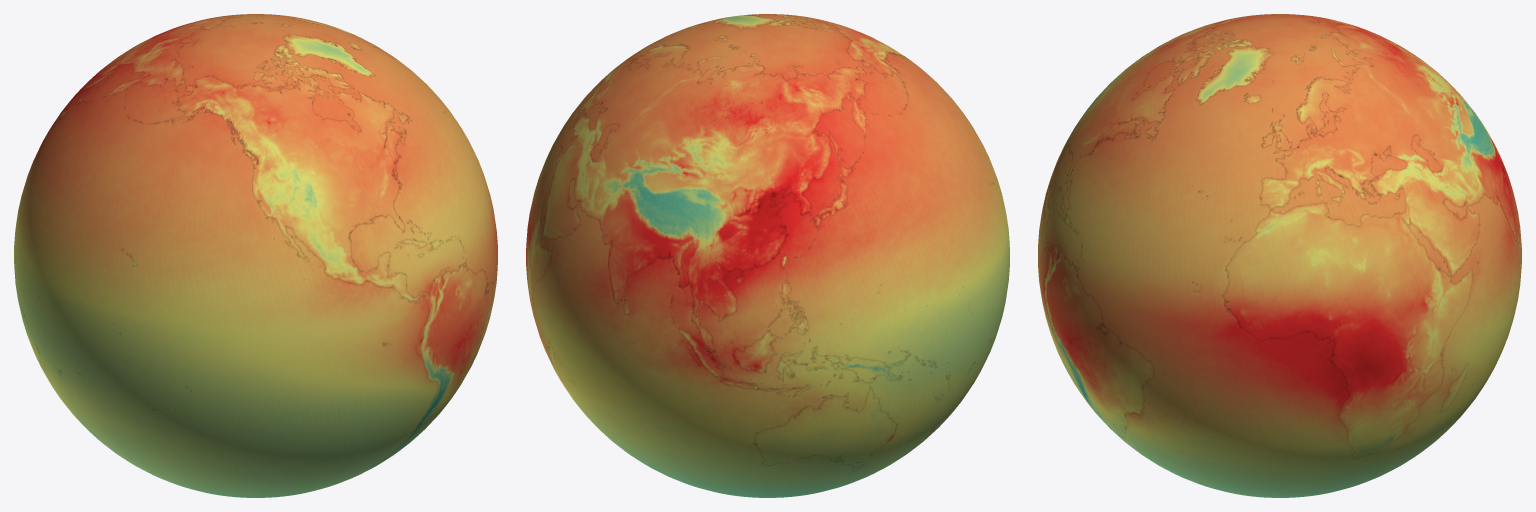
3 renders of one model, left to right at view 1: azimuth 30°, elevation 25°; view 2: azimuth 150°, elevation 25°; view 3: azimuth 270°, elevation 25°, orthographic.
Visible parts, largest first — view 1: Sphere; view 2: Sphere; view 3: Sphere.
Boxes of the visible parts, x1=… form: Sphere: x1=14, y1=14, x2=497, y2=497; Sphere: x1=526, y1=14, x2=1009, y2=497; Sphere: x1=1038, y1=14, x2=1521, y2=497.
Size of the model in its own units: 3.82 by 3.82 by 3.81.
Materials: 1 (1 with a texture image).
